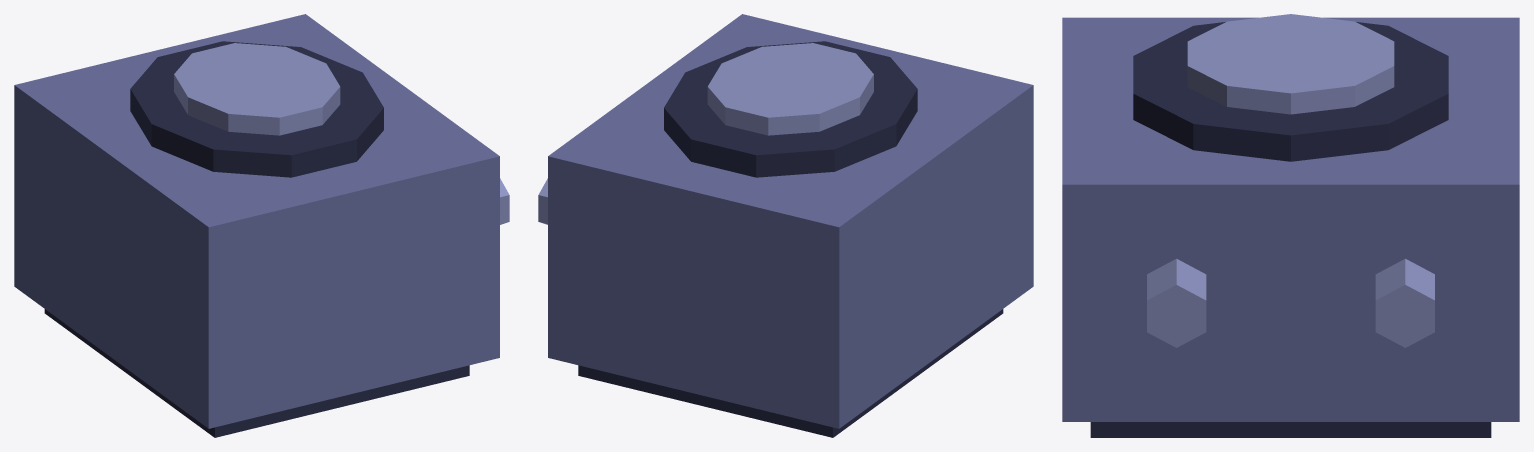
File: env_r8_rooftop_ac_unit.glb
3 renders of one model, left to right at view 1: azimuth 30°, elevation 25°; view 2: azimuth 150°, elevation 25°; view 3: azimuth 270°, elevation 25°, orthographic. The views are drawn at different scales.
Visible parts, largest first — view 1: env_r8_rooftop_ac_unit; view 2: env_r8_rooftop_ac_unit; view 3: env_r8_rooftop_ac_unit.
Boxes of the visible parts, x1=… form: env_r8_rooftop_ac_unit: x1=14, y1=14, x2=509, y2=437; env_r8_rooftop_ac_unit: x1=538, y1=14, x2=1033, y2=437; env_r8_rooftop_ac_unit: x1=1062, y1=14, x2=1519, y2=437.
Size of the model in its own units: 1.6 by 1.2 by 1.6.
Materials: 1 (1 with a texture image).
